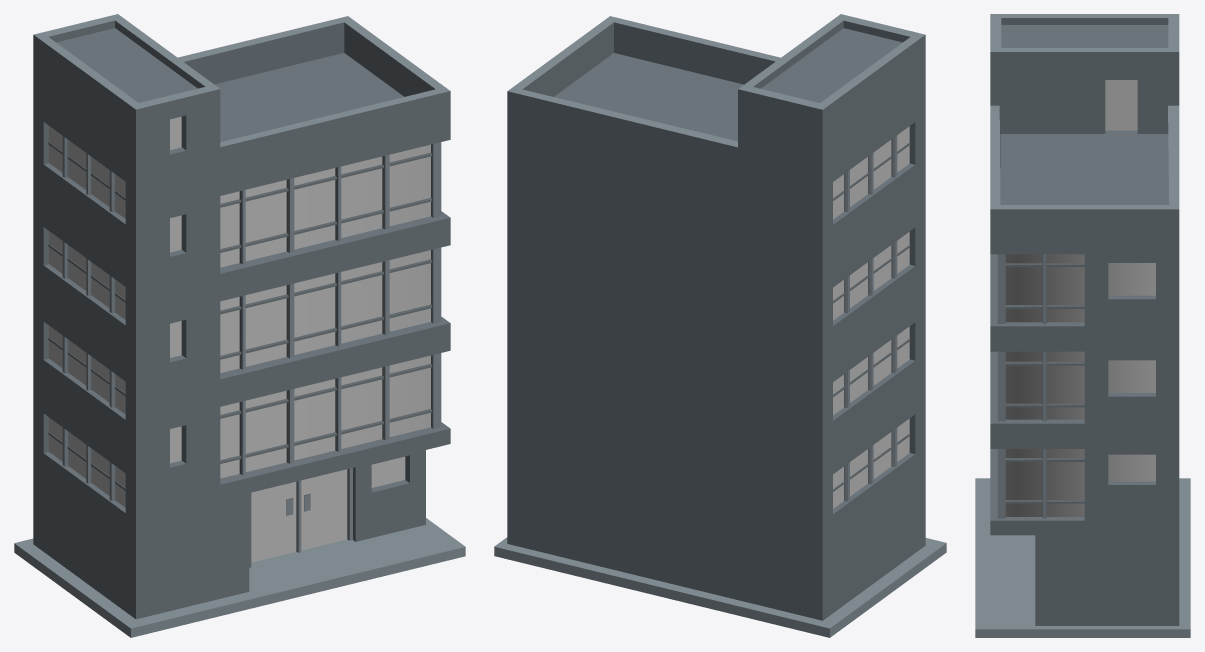
The model's file is SM_Gen_Bld_Background_05.fbx.
3 renders of one model, left to right at view 1: azimuth 30°, elevation 25°; view 2: azimuth 150°, elevation 25°; view 3: azimuth 270°, elevation 25°, orthographic. The views are drawn at different scales.
Visible parts, largest first — view 1: SM_Gen_Bld_Background_05; view 2: SM_Gen_Bld_Background_05; view 3: SM_Gen_Bld_Background_05.
Part boxes in pixels (x1,y1,x2,y2): SM_Gen_Bld_Background_05: (14,14,465,637); SM_Gen_Bld_Background_05: (494,14,946,637); SM_Gen_Bld_Background_05: (975,14,1190,637).
Size of the model in its own units: 876 by 1298 by 529.
